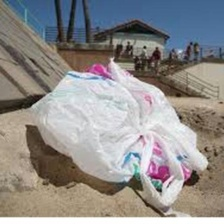plastic_bag: (19, 54, 212, 214)
